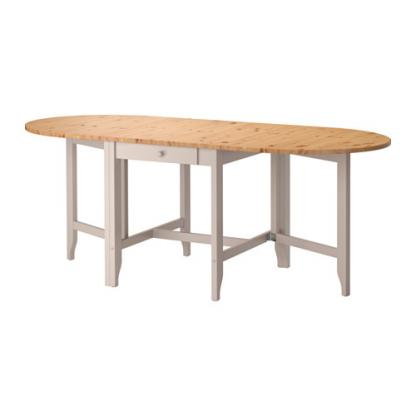Table: (22, 107, 396, 305)
